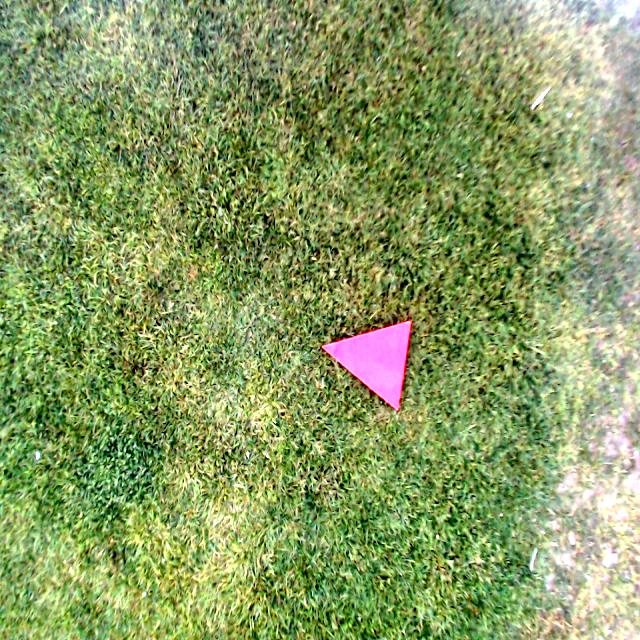red_triangle: (321, 318, 414, 414)
